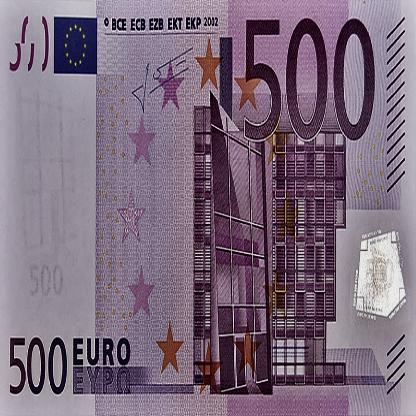euro_banknote: (0, 6, 408, 412)
